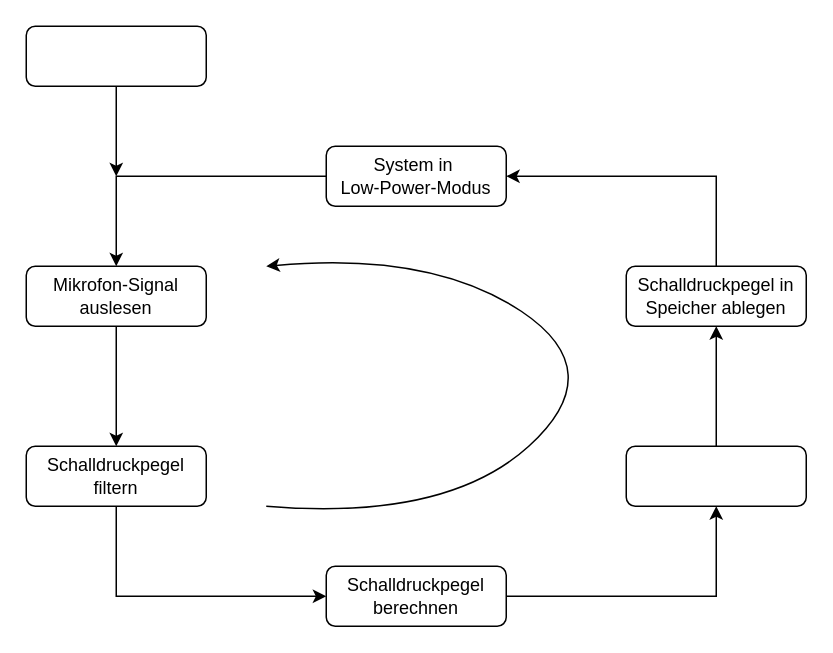
Image size: 833x653. Some labels were removed from this diagram. Here are the shapes that lost their labels. From the top down, the centre of each, then its label:
the point at 115,55: Mikrocontroller Initialisierung
the point at 715,475: Schalldruckpegel mit LEDs wiedergeben
